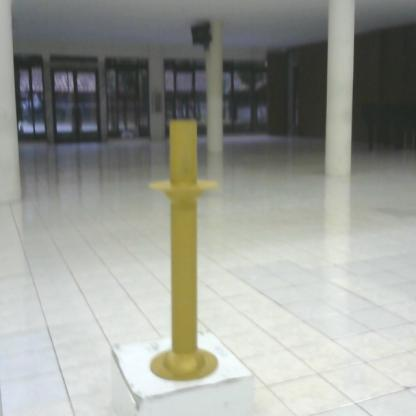pole: (142, 114, 228, 388)
